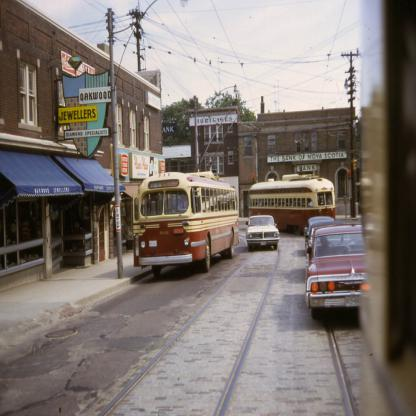Car: (305, 223, 366, 319), (303, 218, 345, 258), (245, 215, 280, 250), (302, 218, 334, 243)
